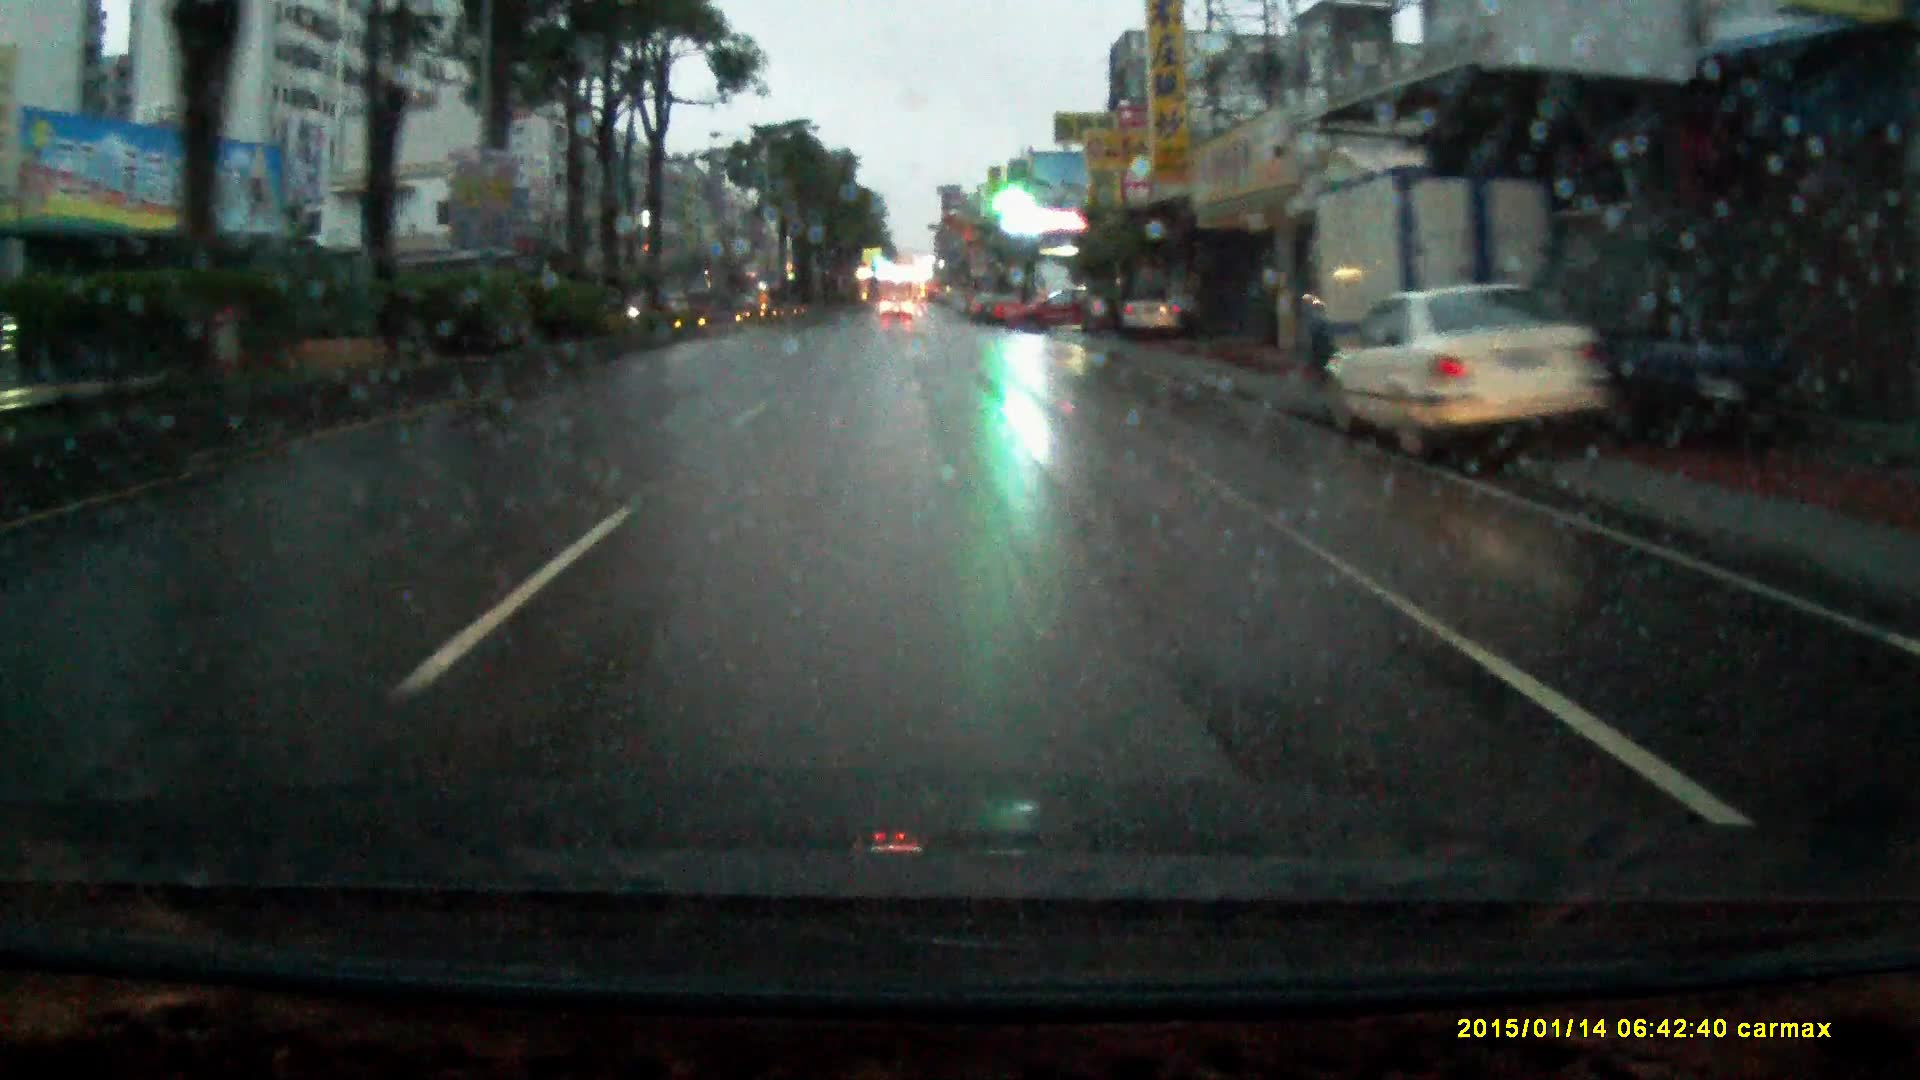vehicle: (1291, 142, 1606, 404), (1576, 208, 1829, 444), (1317, 287, 1633, 465), (1005, 290, 1102, 339), (1106, 291, 1183, 343), (881, 299, 913, 327)
